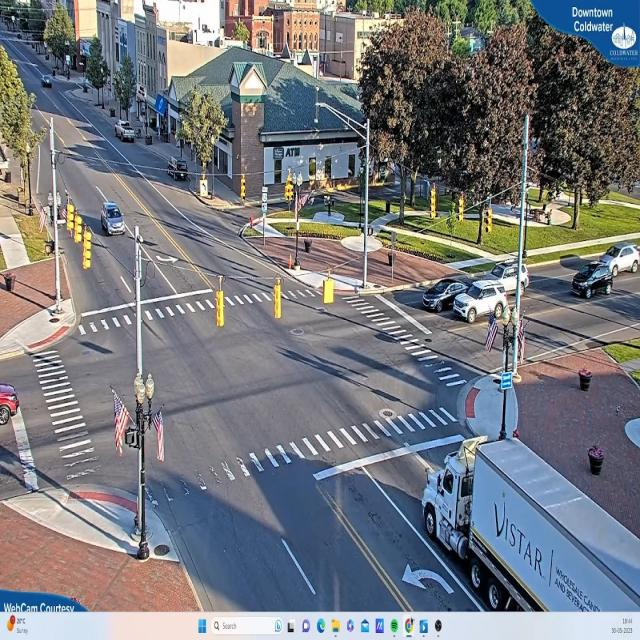car: (453, 285, 512, 326), (422, 279, 475, 312), (484, 264, 531, 298), (571, 265, 616, 299), (597, 244, 639, 275), (101, 202, 128, 238), (1, 384, 22, 424), (117, 122, 137, 145)
truck: (421, 434, 640, 610)
